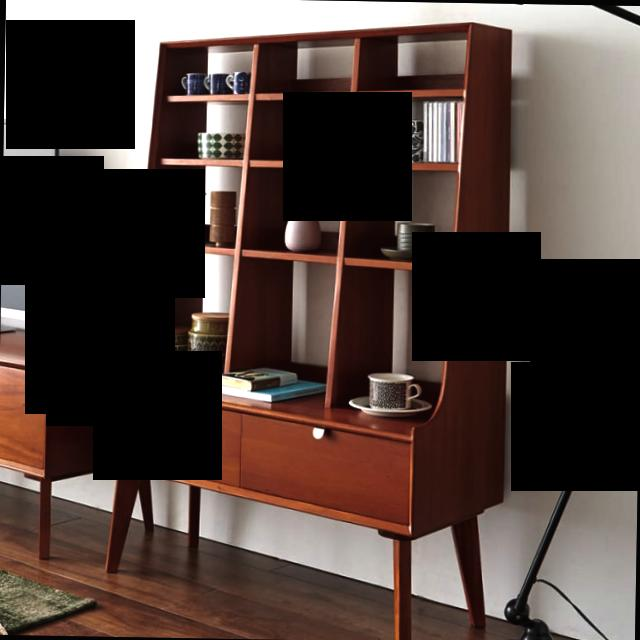vintage shelf: (87, 13, 520, 640)
